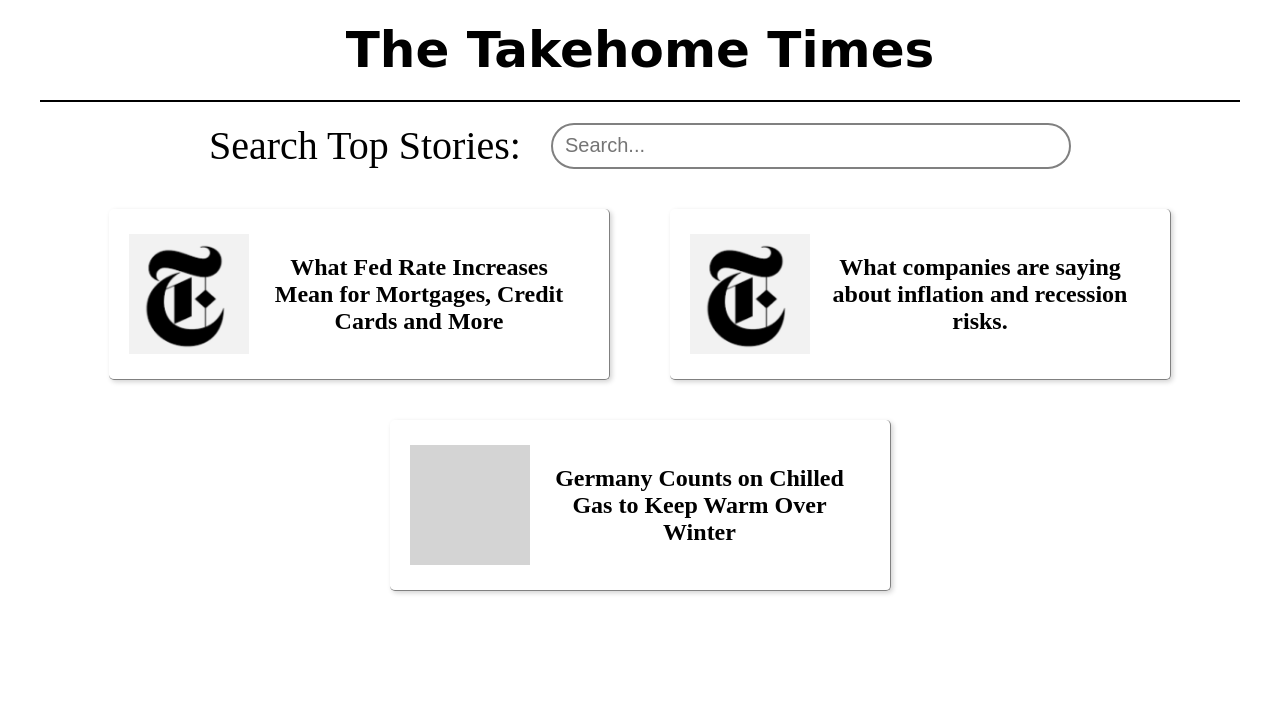
Dashboard › Should allow user to search
Type "inflation" into the field with placeholder "Search..." at (811, 146), box [551,123,1071,169]
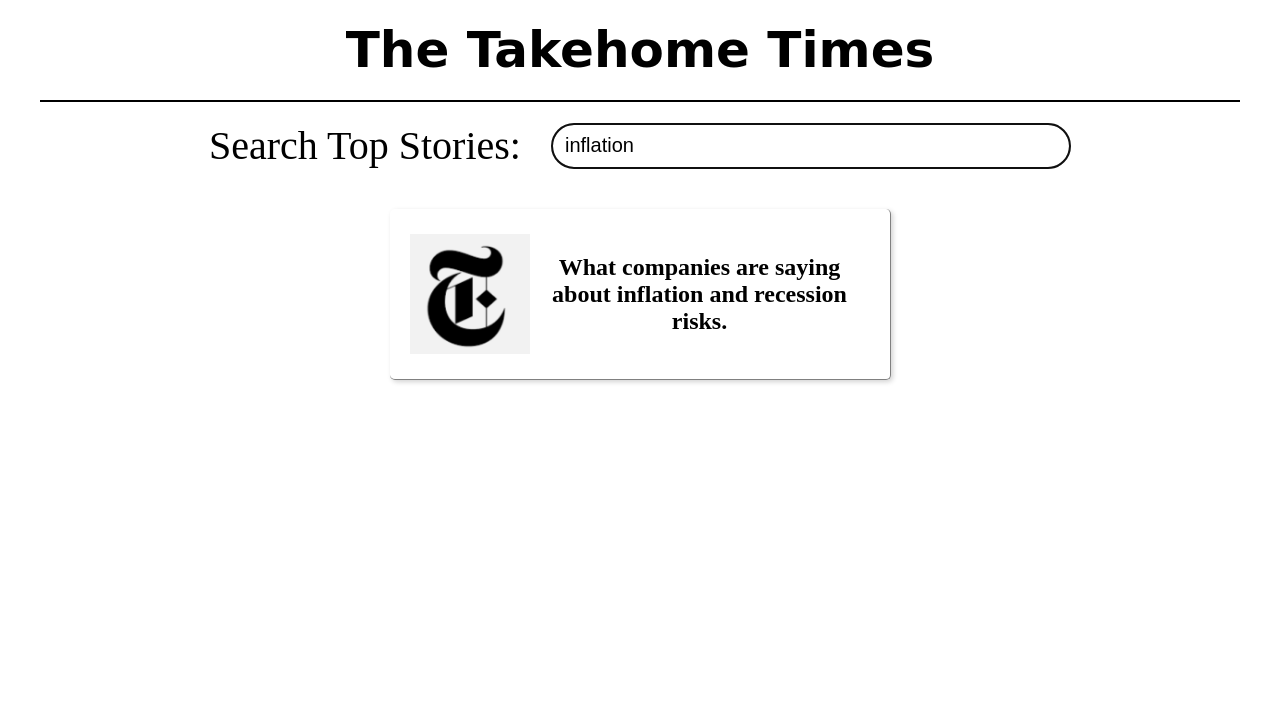
expect the link "What companies are saying about inflation and recession risks." is shown: met, box [390,209,890,380]
expect the number of links with class "item-card" is 1: met, box [390,209,891,380]
